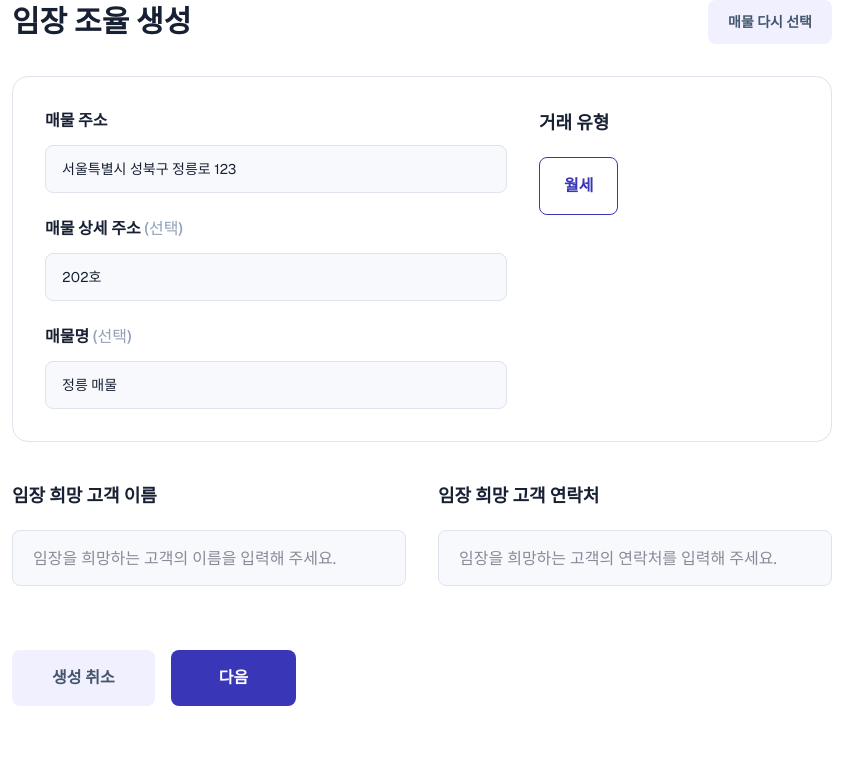
it: CoordinationRequestFlow › 완료 버튼은 후보 시간을 하나도 고르지 않으면 비활성 상태다
This screenshot has width=849, height=768.
Expected: the text "서울특별시 성북구 정릉로 123" is shown, [45,145,507,193]
Type "뛩뛩" into the field with placeholder "임장을 희망하는 고객의 이름을 입력해 주세요." at (209, 558), box [12,530,406,586]
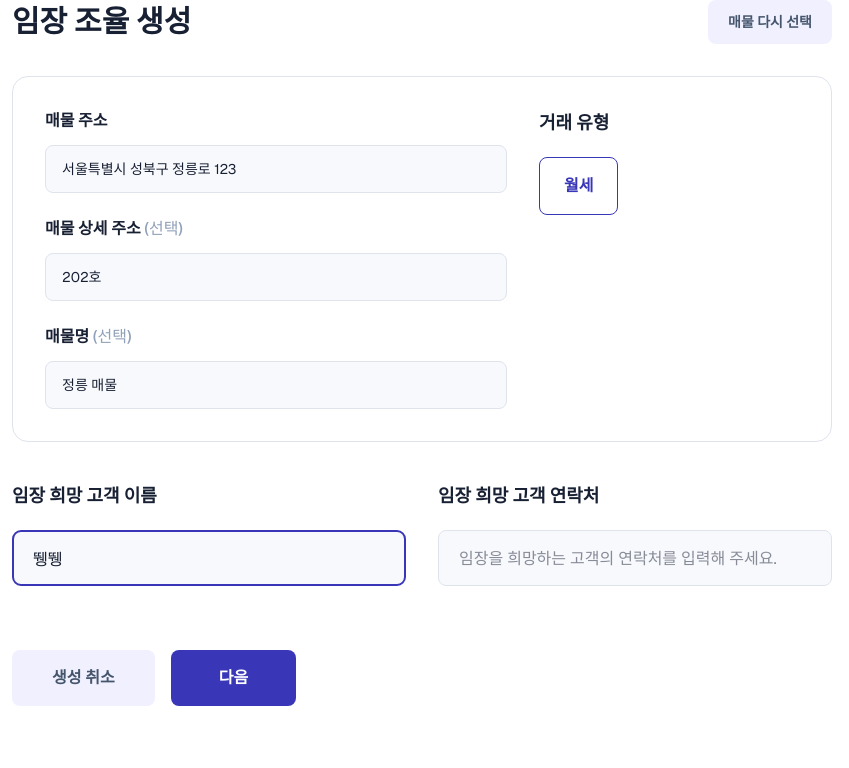
Type "010-8888-8888" into the field with placeholder "임장을 희망하는 고객의 연락처를 입력해 주세요." at (635, 558), box [438,530,832,586]
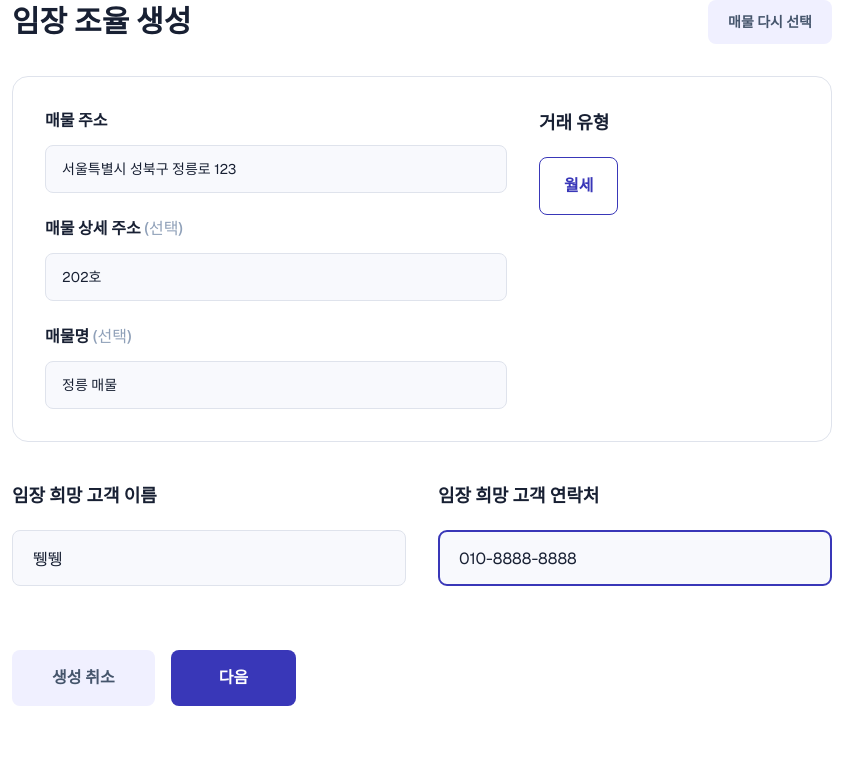
Click the button "다음" at (233, 678), box [171,650,296,706]
(page scrolled)
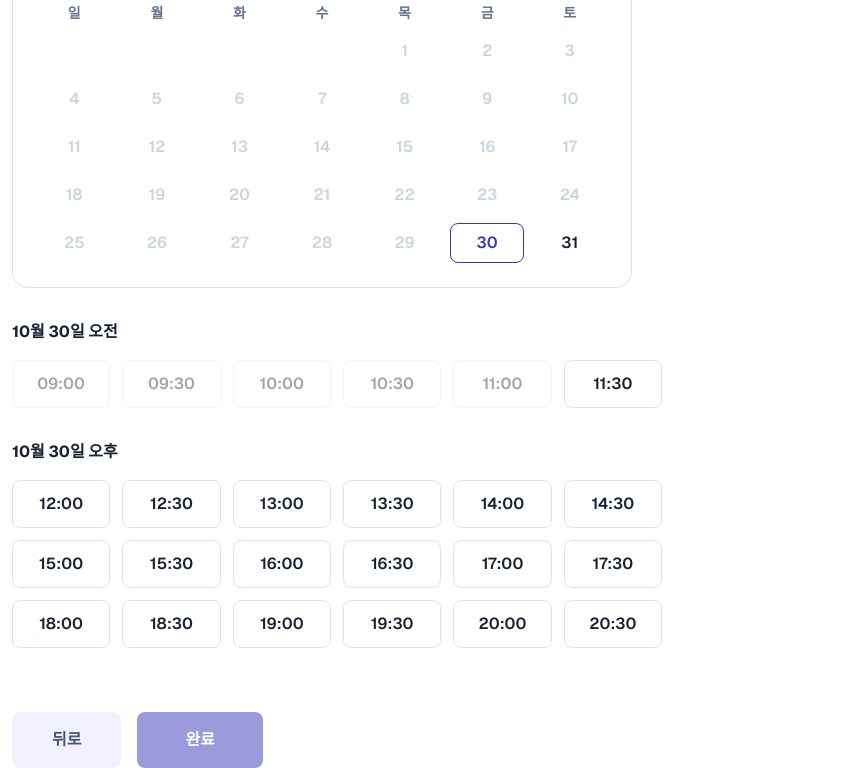
Expected: the button "완료" is disabled, [138,712,263,767]
